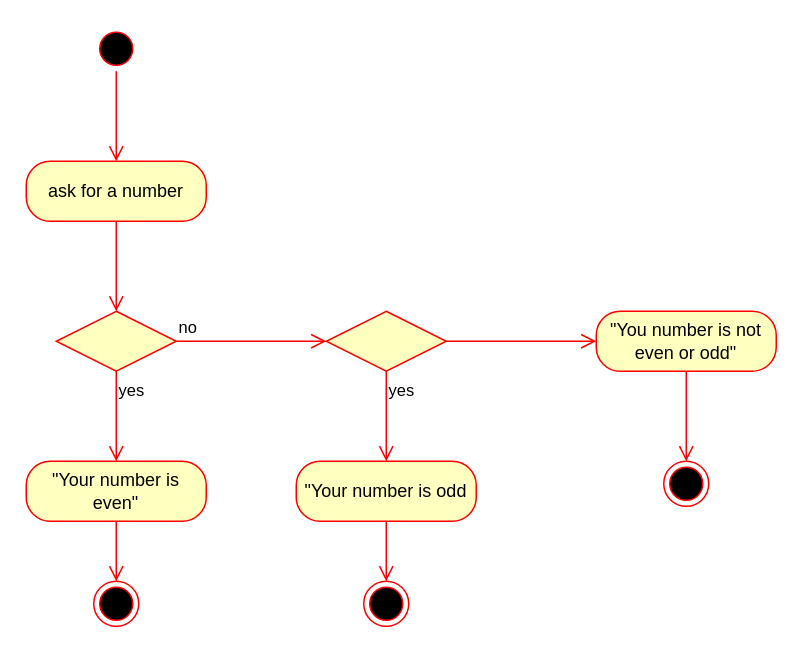
Image size: 803x653. Some labels were removed from this diagram. The shapes that lost their labels are listed below. From the top down, each one's box as (x1, y1, x2, y2) in pixels, then its label:
(55, 310, 176, 371): is even
(325, 310, 446, 371): is odd
